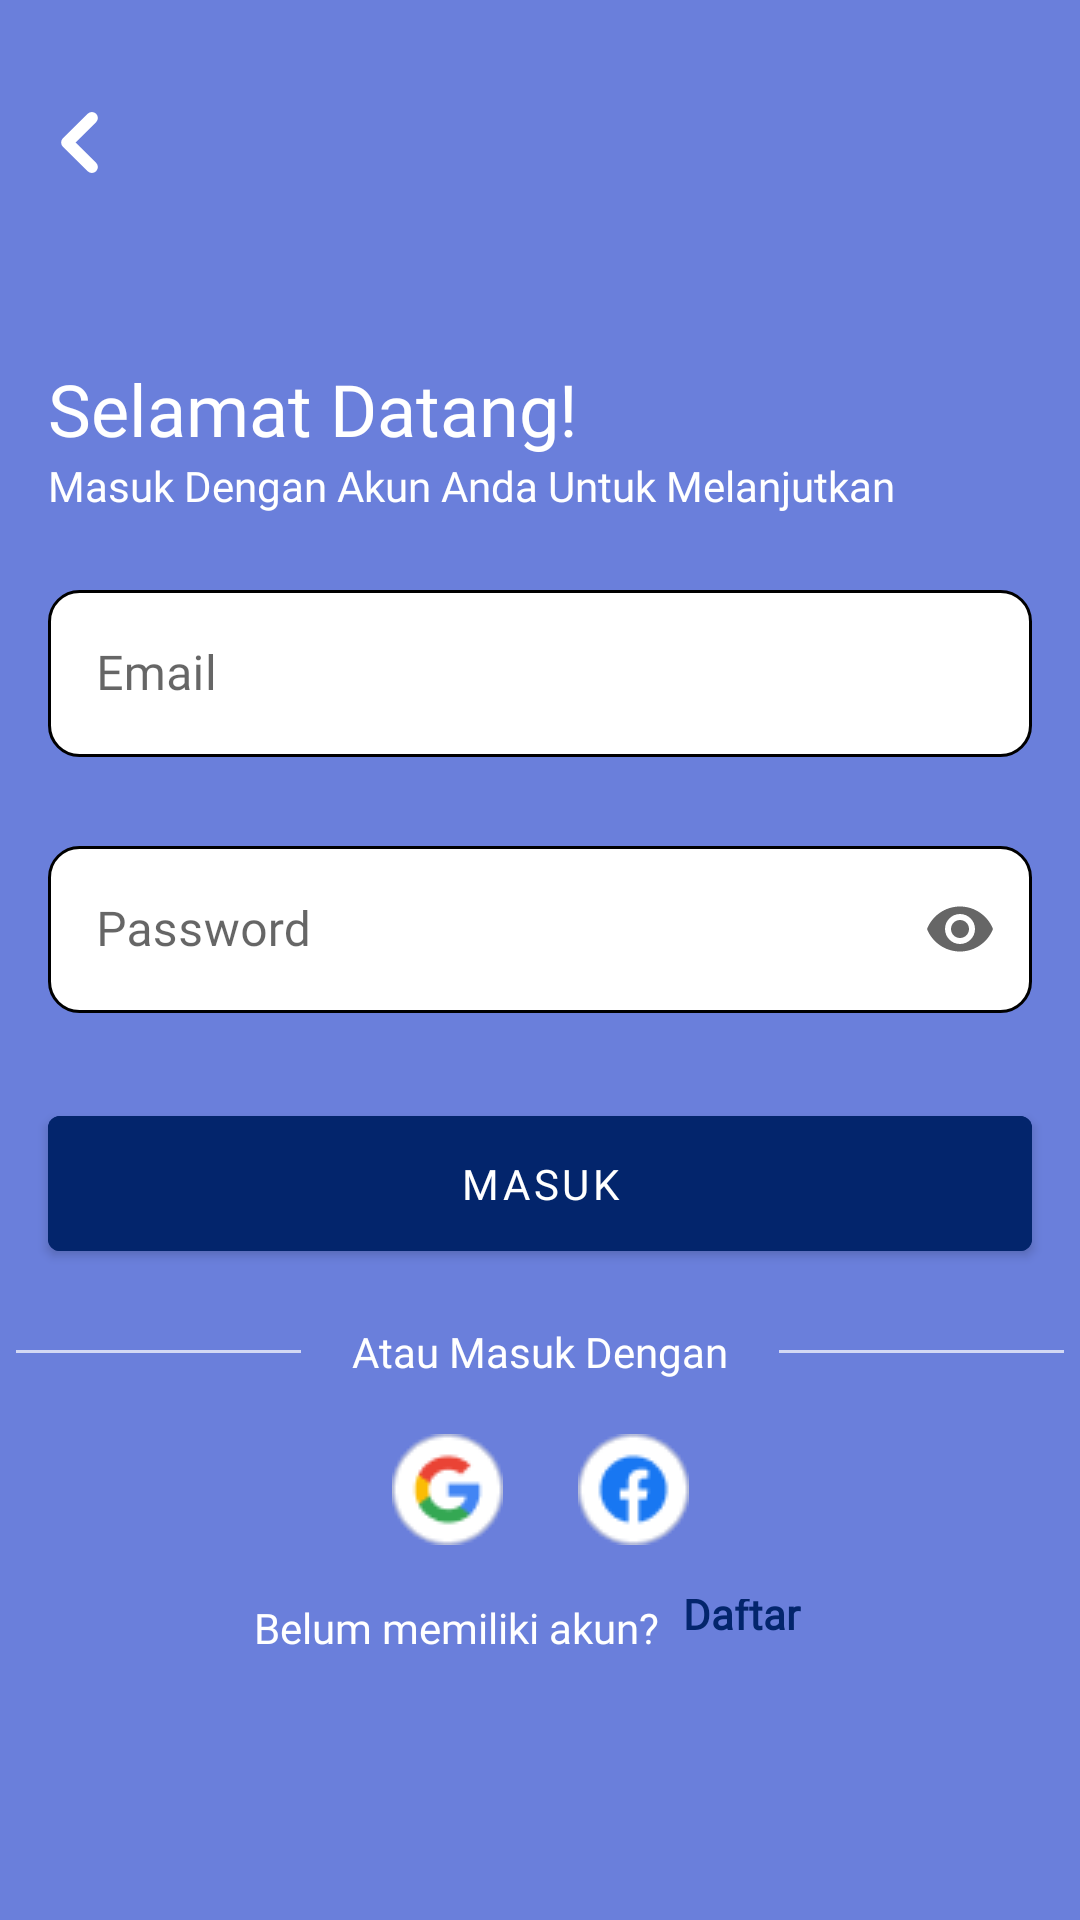

Named icons in this screenshot (1080w x 1920h) and their bounding boxes, (x1, y1, x2, y2):
back: (61, 112, 98, 173)
